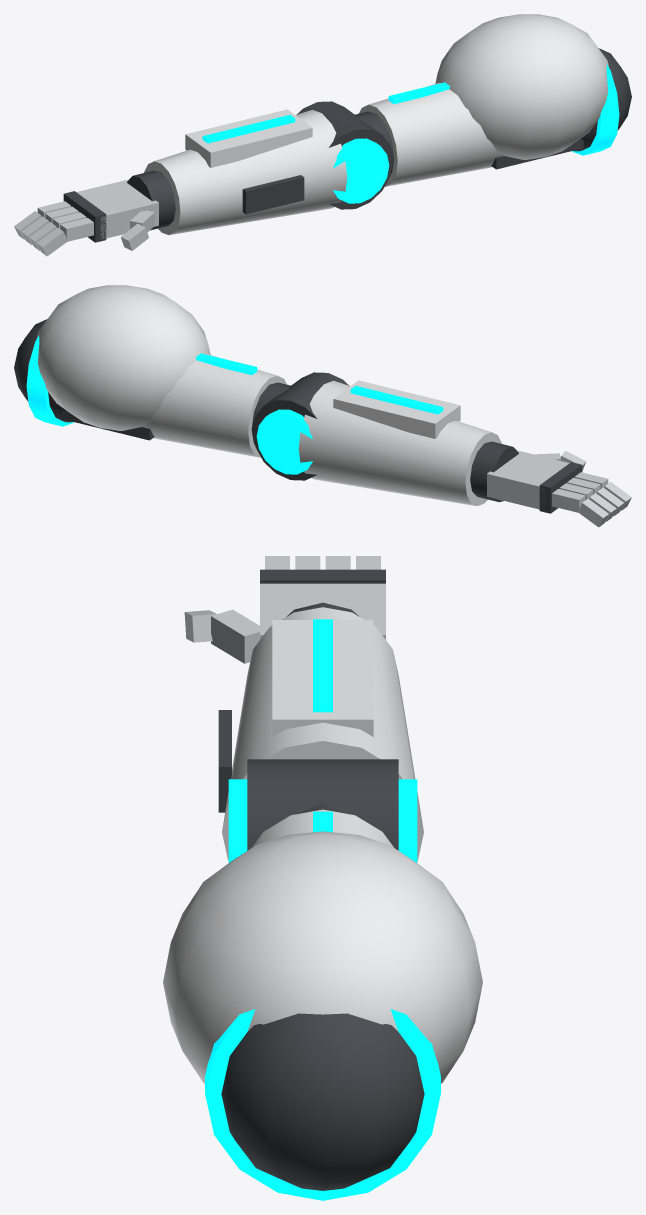
Rendered from FV_ArmModule_R.fbx.
3 renders of one model, top to bottom at view 1: azimuth 30°, elevation 25°; view 2: azimuth 150°, elevation 25°; view 3: azimuth 270°, elevation 25°, orthographic. The views are drawn at different scales.
Visible parts, largest first — view 1: ArmModule_R; view 2: ArmModule_R; view 3: ArmModule_R.
Part boxes in pixels (x1,y1,x2,y2): ArmModule_R: (14, 14, 631, 256); ArmModule_R: (14, 285, 631, 527); ArmModule_R: (163, 556, 482, 1200).
Size of the model in its own units: 0.8177 by 0.185 by 0.19.
